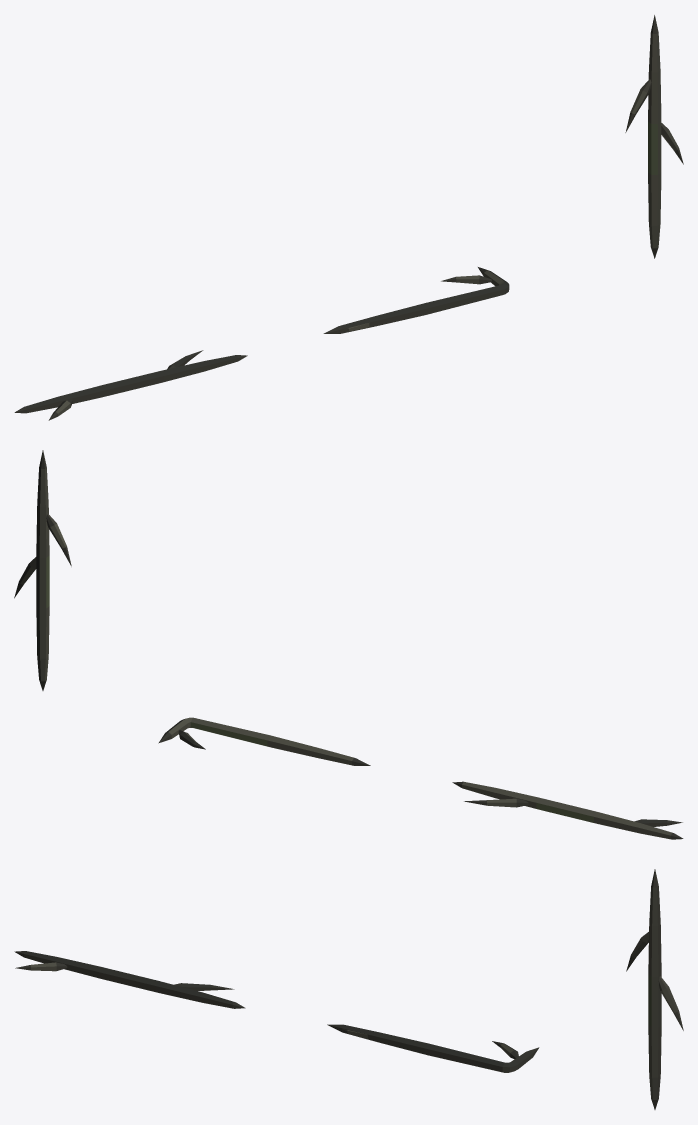
Rendered from n03_roots_and_vines.glb.
3 renders of one model, top to bottom at view 1: azimuth 30°, elevation 25°; view 2: azimuth 150°, elevation 25°; view 3: azimuth 330°, elevation 25°, orthographic.
Parts seen in each view (by area): view 1: N03_Hanging_PrimaryLine, N03_Straight_PrimaryLine, N03_Corner_PrimaryLine; view 2: N03_Hanging_PrimaryLine, N03_Straight_PrimaryLine, N03_Corner_PrimaryLine; view 3: N03_Hanging_PrimaryLine, N03_Straight_PrimaryLine, N03_Corner_PrimaryLine, N03_Hanging_Branch_Right.
Part boxes in pixels (left/top/right/bottom): N03_Hanging_PrimaryLine: left=648, top=15, right=661, bottom=258; N03_Straight_PrimaryLine: left=14, top=355, right=247, bottom=413; N03_Corner_PrimaryLine: left=323, top=267, right=509, bottom=333; N03_Hanging_PrimaryLine: left=36, top=450, right=49, bottom=690; N03_Straight_PrimaryLine: left=452, top=781, right=683, bottom=839; N03_Corner_PrimaryLine: left=158, top=717, right=370, bottom=765; N03_Hanging_PrimaryLine: left=648, top=869, right=661, bottom=1109; N03_Straight_PrimaryLine: left=14, top=951, right=245, bottom=1008; N03_Corner_PrimaryLine: left=327, top=1024, right=539, bottom=1072; N03_Hanging_Branch_Right: left=658, top=976, right=683, bottom=1030.
Bounding box in the file's own units: 6.9 × 2.4 × 0.9.
